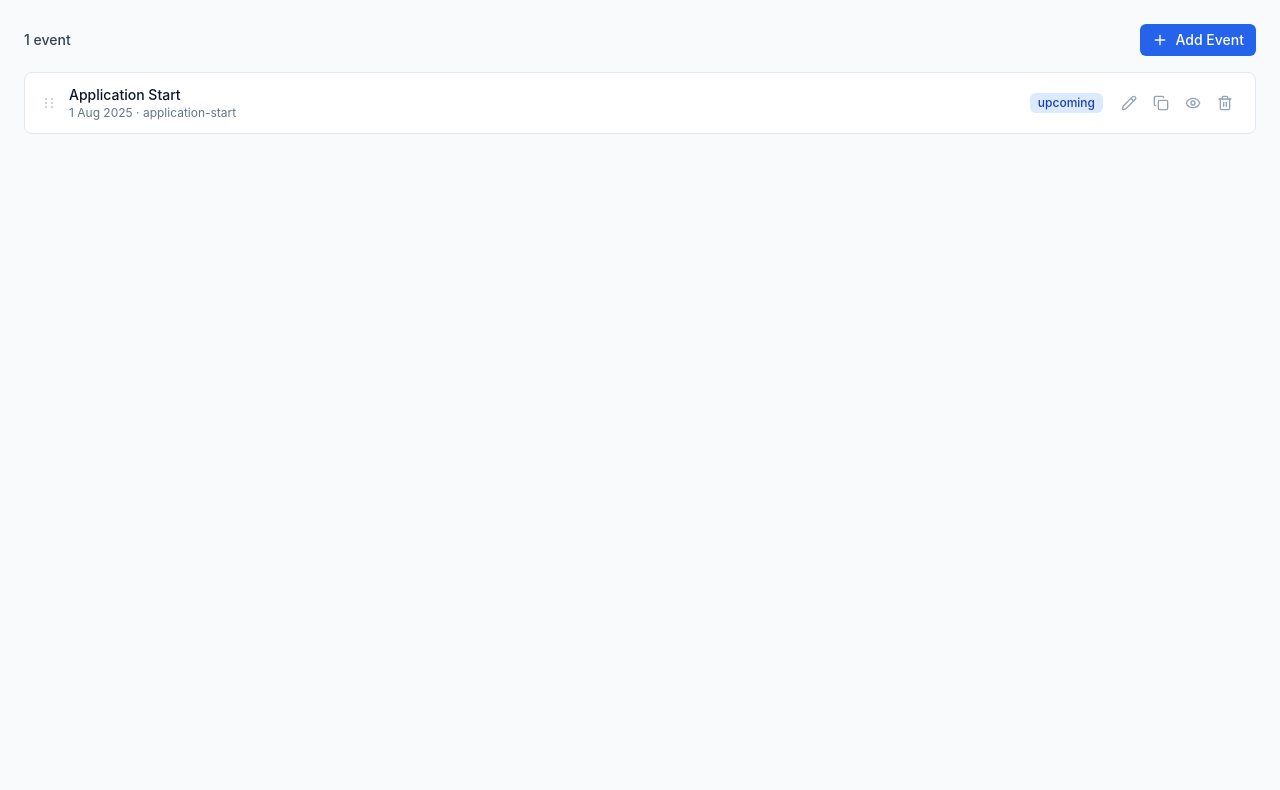
Test: edit › clicking Edit expands the form
Check: the heading "1 event" is shown, box [24,30,71,50]
// Wait for loaded state (toolbar shows event count)
Click the button named "edit timeline event": (1129, 103) [1115,89,1143,117]
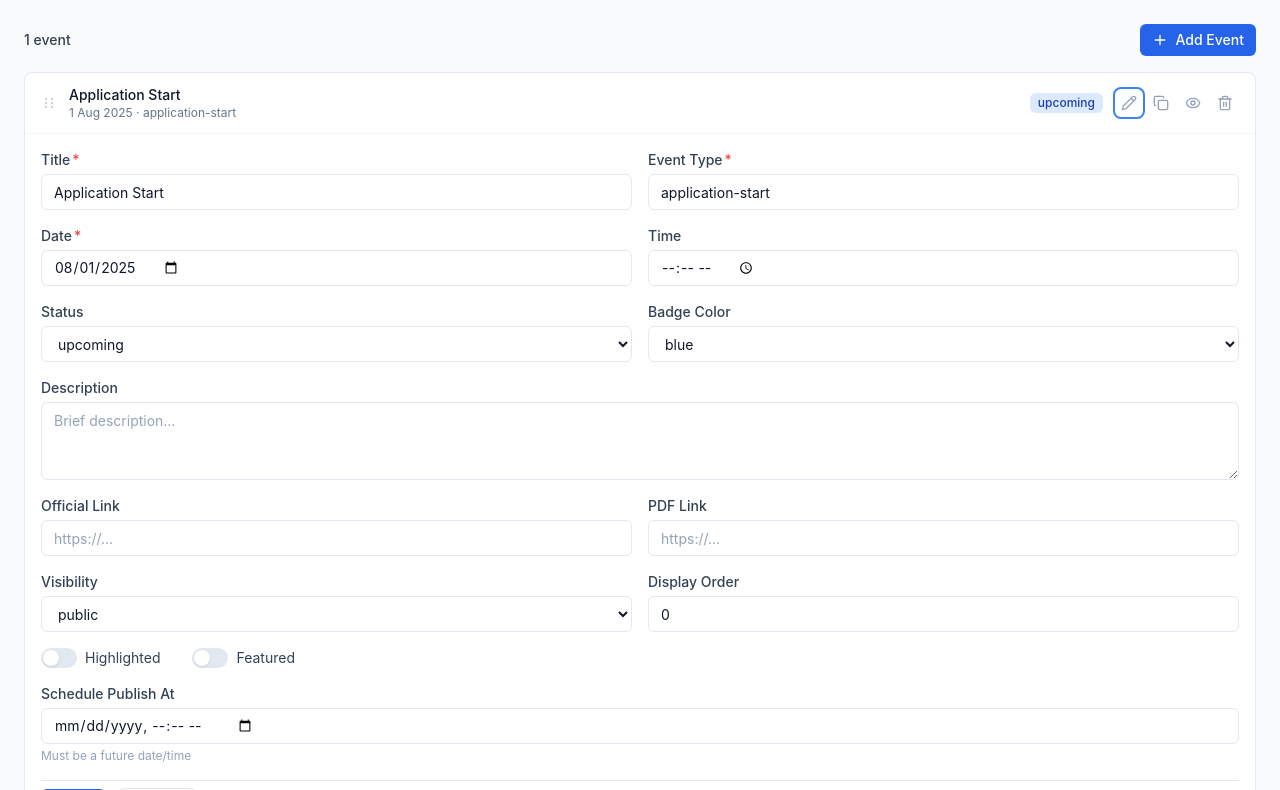
Check: the field with placeholder "e.g. application-start" below "Event Type" is shown, box [648,174,1239,210]
